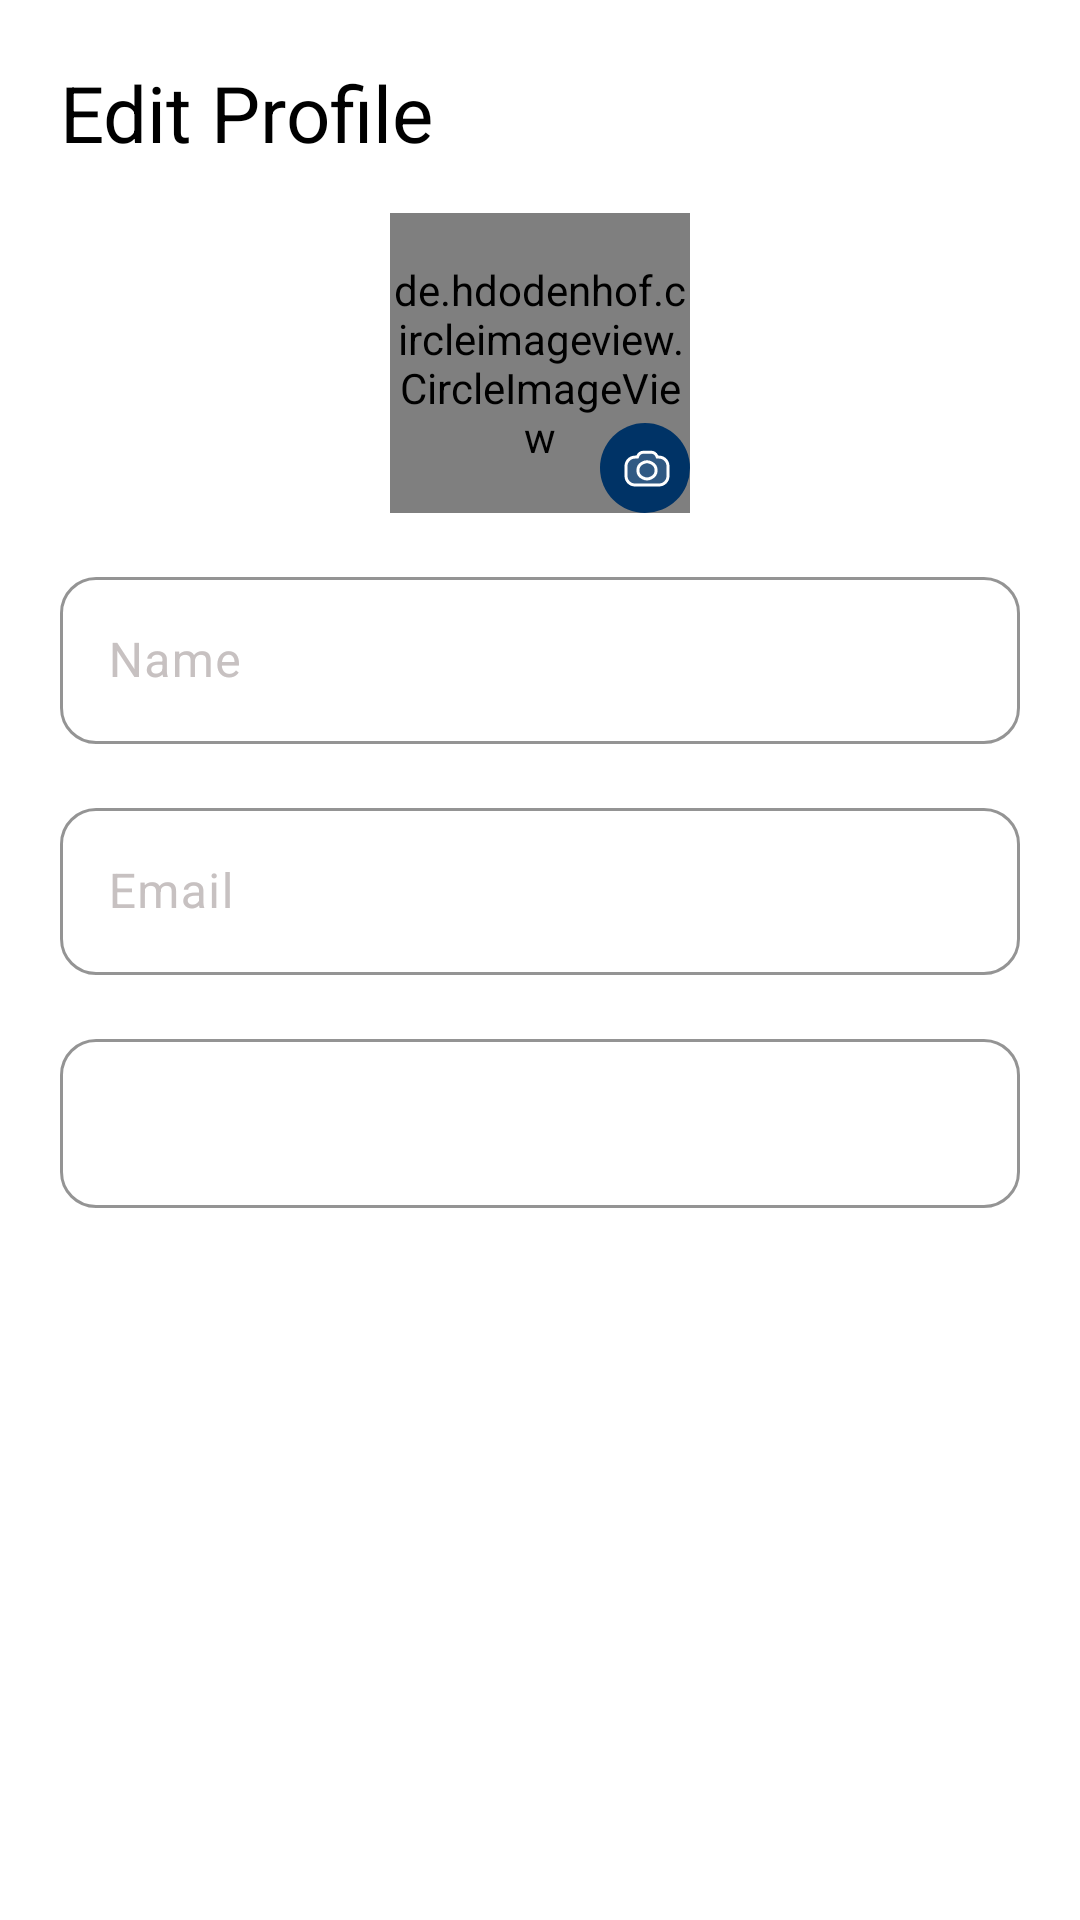

Icons on this 1080 x 1920 Android screen, each with the point to tap as (x,y):
camera: (645,468)
